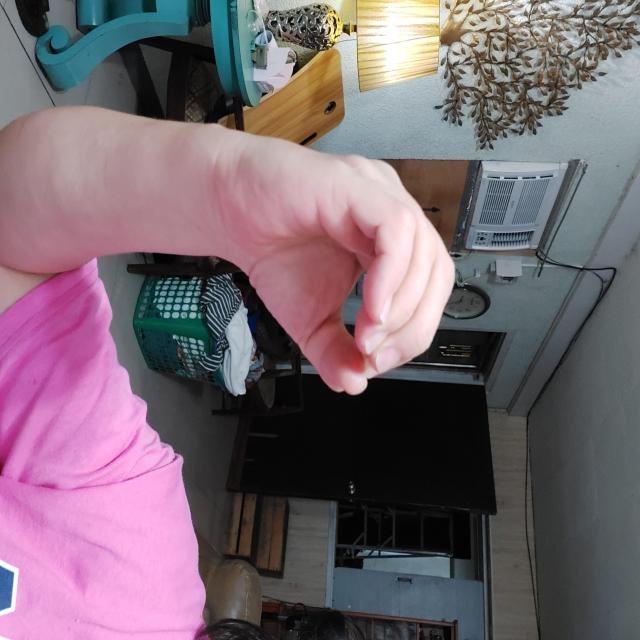O: (133, 185, 396, 408)
